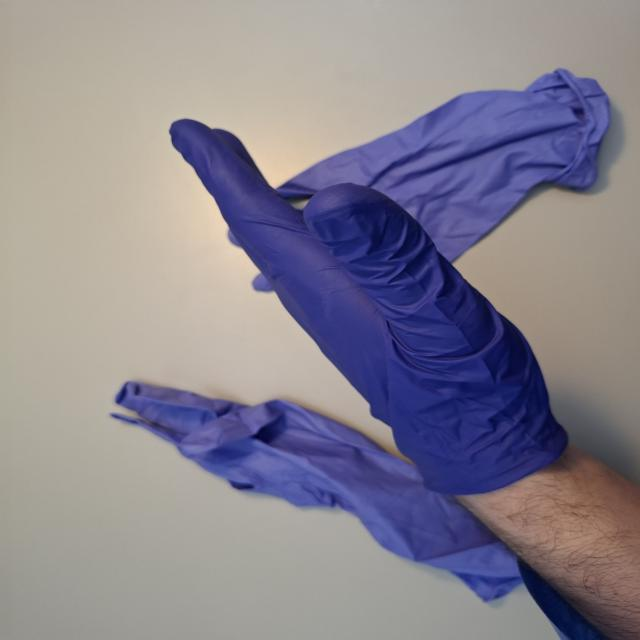glove_on: (166, 117, 574, 500)
